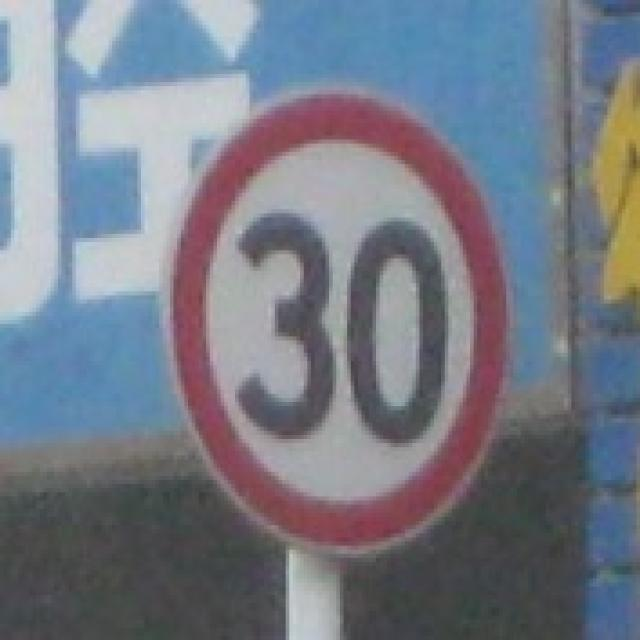Speed Limit -30-: (231, 204, 455, 450)
